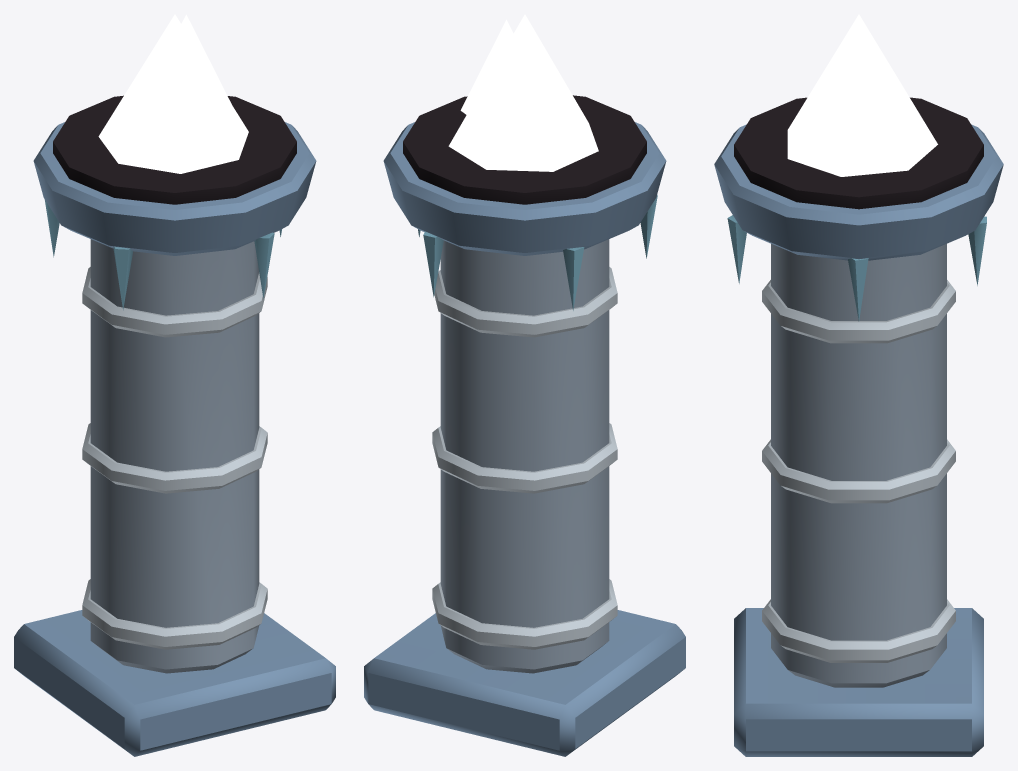
File: mt_pillar_3.glb
The picture shows the model from 3 angles, left to right: view 1: azimuth 30°, elevation 25°; view 2: azimuth 150°, elevation 25°; view 3: azimuth 270°, elevation 25°; orthographic projection. The views are drawn at different scales.
Visible parts, largest first — view 1: body, pulse_flame_glow; view 2: body, pulse_flame_glow; view 3: body, pulse_flame_glow.
Part boxes in pixels (x1,y1,x2,y2): body: (14, 95, 335, 756); pulse_flame_glow: (98, 14, 248, 173); body: (364, 95, 685, 756); pulse_flame_glow: (448, 14, 598, 171); body: (714, 97, 1003, 756); pulse_flame_glow: (787, 14, 937, 176).
Bounding box in the file's own units: 1.97 × 5.22 × 1.97.
